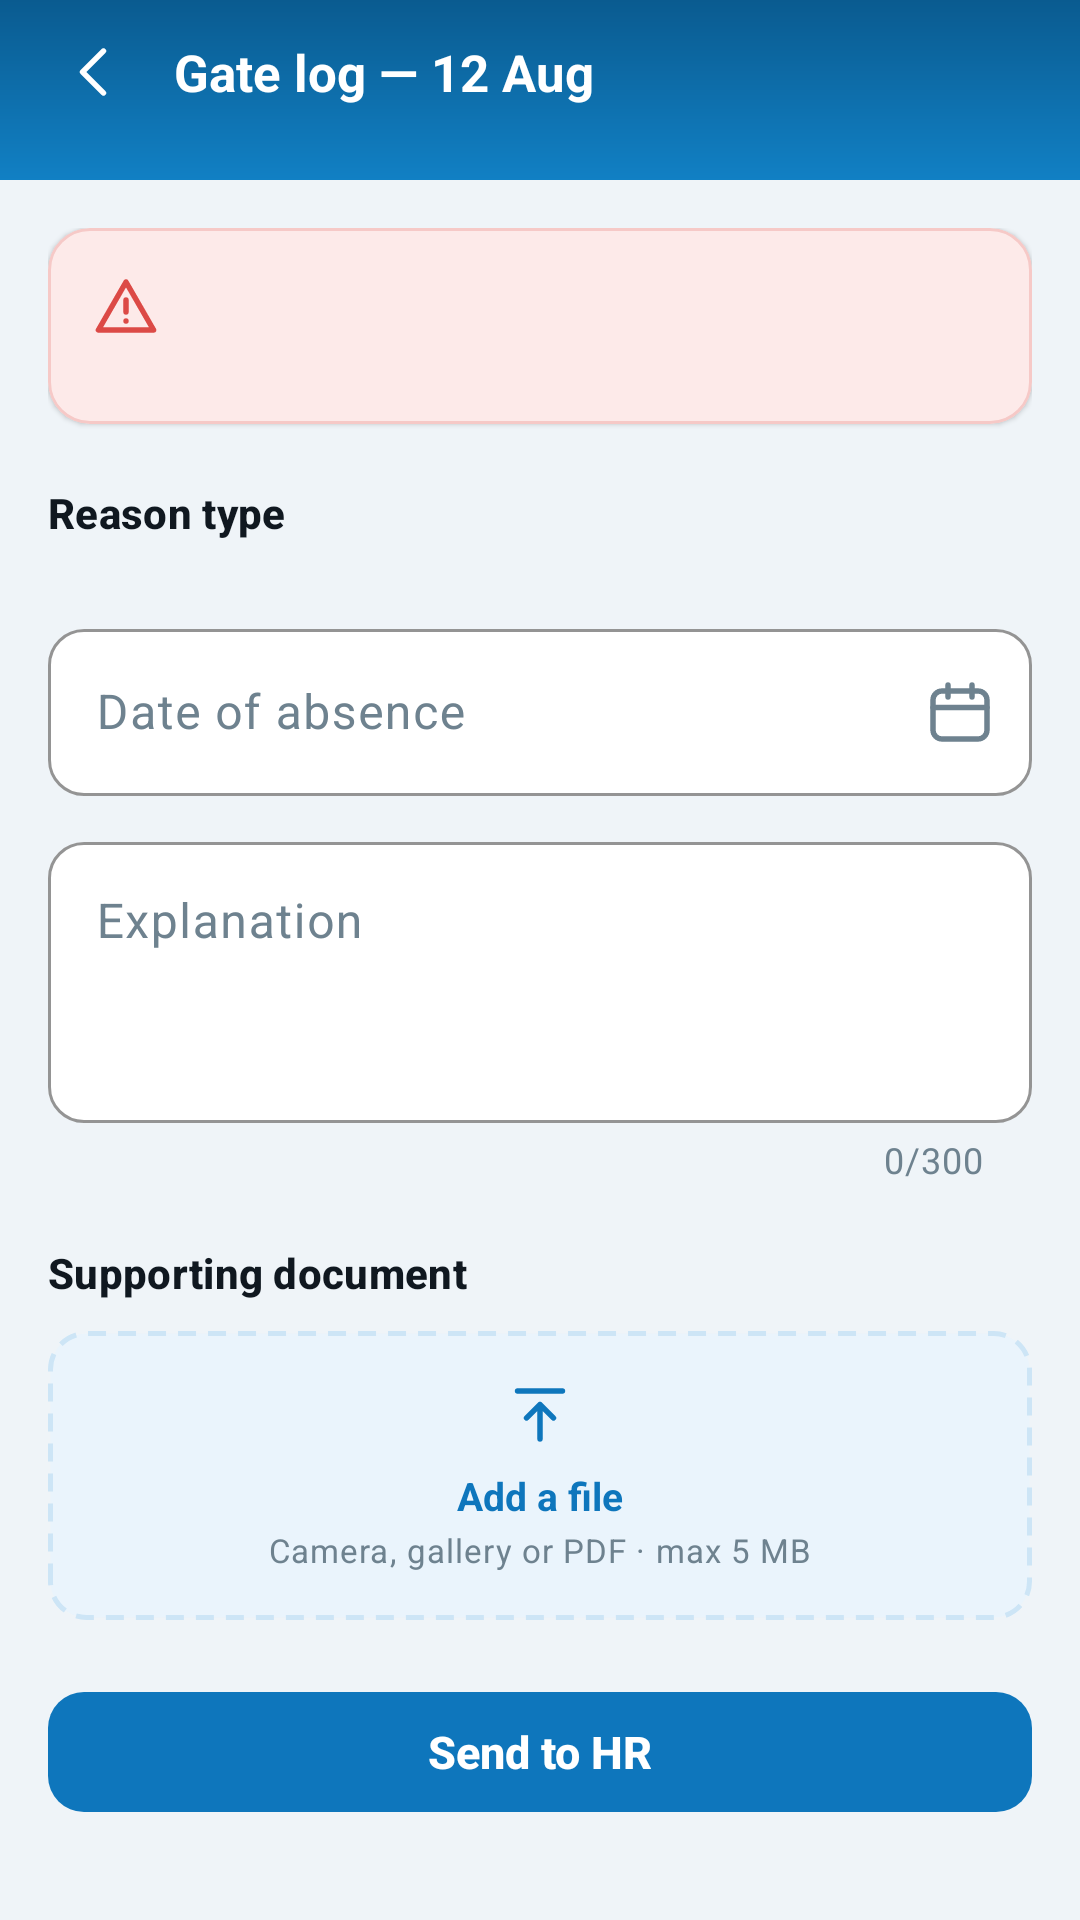

Screen size 1080x1920. Icon name, then its box in pixels as (x1, y1, x2, y2):
upload: (514, 1388, 566, 1442)
warning: (95, 279, 157, 333)
